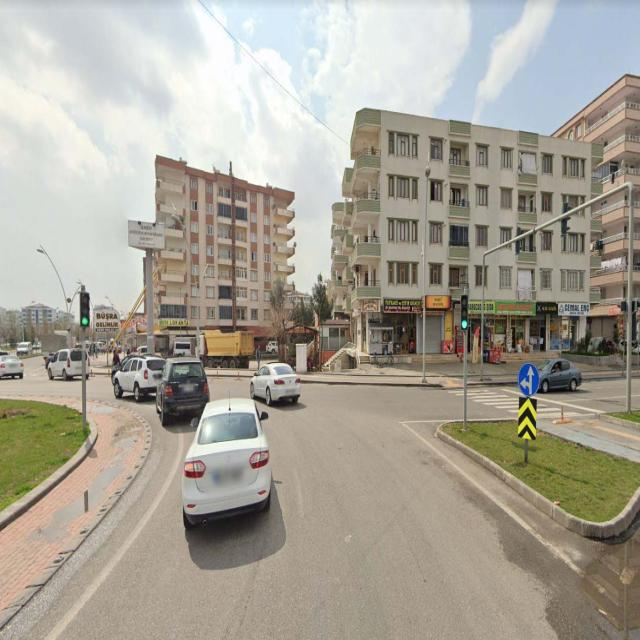ilerisol: (517, 362, 540, 397)
yesil: (80, 291, 90, 326), (460, 294, 468, 328)
